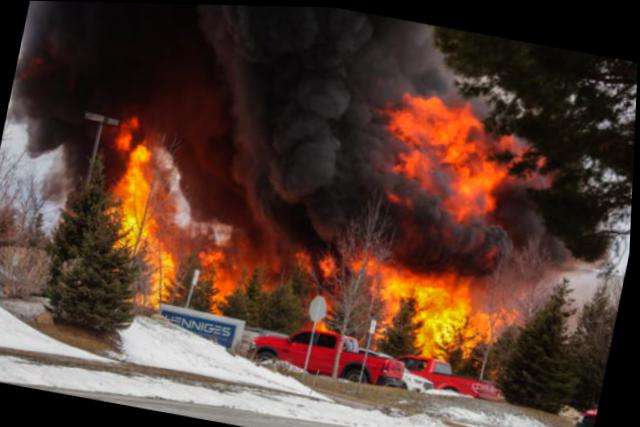fire: (387, 85, 484, 185), (407, 285, 509, 357), (352, 250, 479, 293), (111, 138, 159, 244), (461, 142, 504, 220), (201, 244, 241, 308), (143, 245, 179, 309), (376, 279, 405, 337), (110, 114, 134, 153)
smoke: (12, 0, 396, 159), (182, 128, 379, 240), (363, 202, 596, 287), (0, 100, 102, 212), (150, 127, 199, 210), (387, 20, 439, 87)
